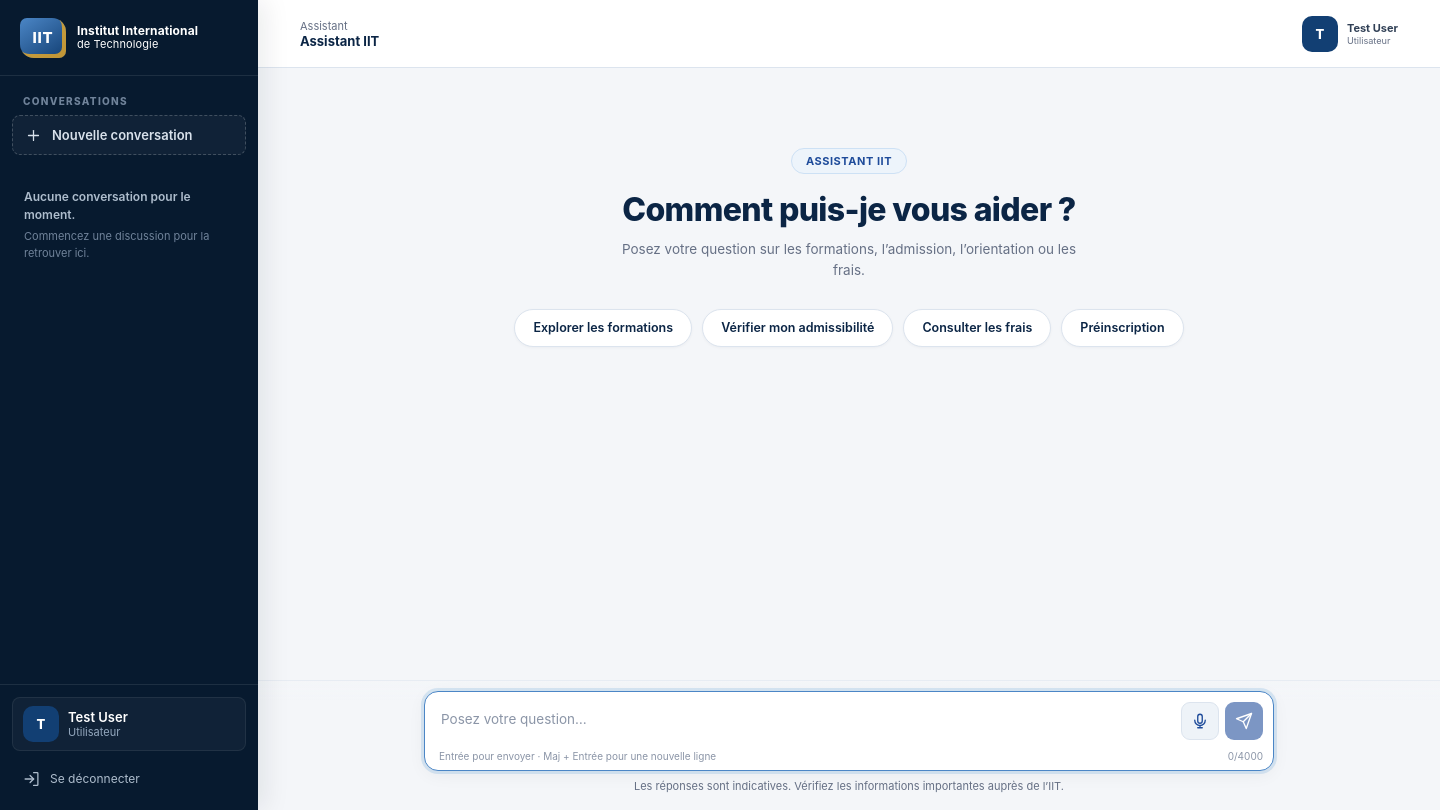
Test: ChatPage › shows a safe microphone permission error
The image size is (1440, 810).
What coordinates should you click on to do the following:
click the button named "Démarrer l’enregistrement vocal"
I would click on:
 (1200, 721)
Its box is [1181, 702, 1219, 740].
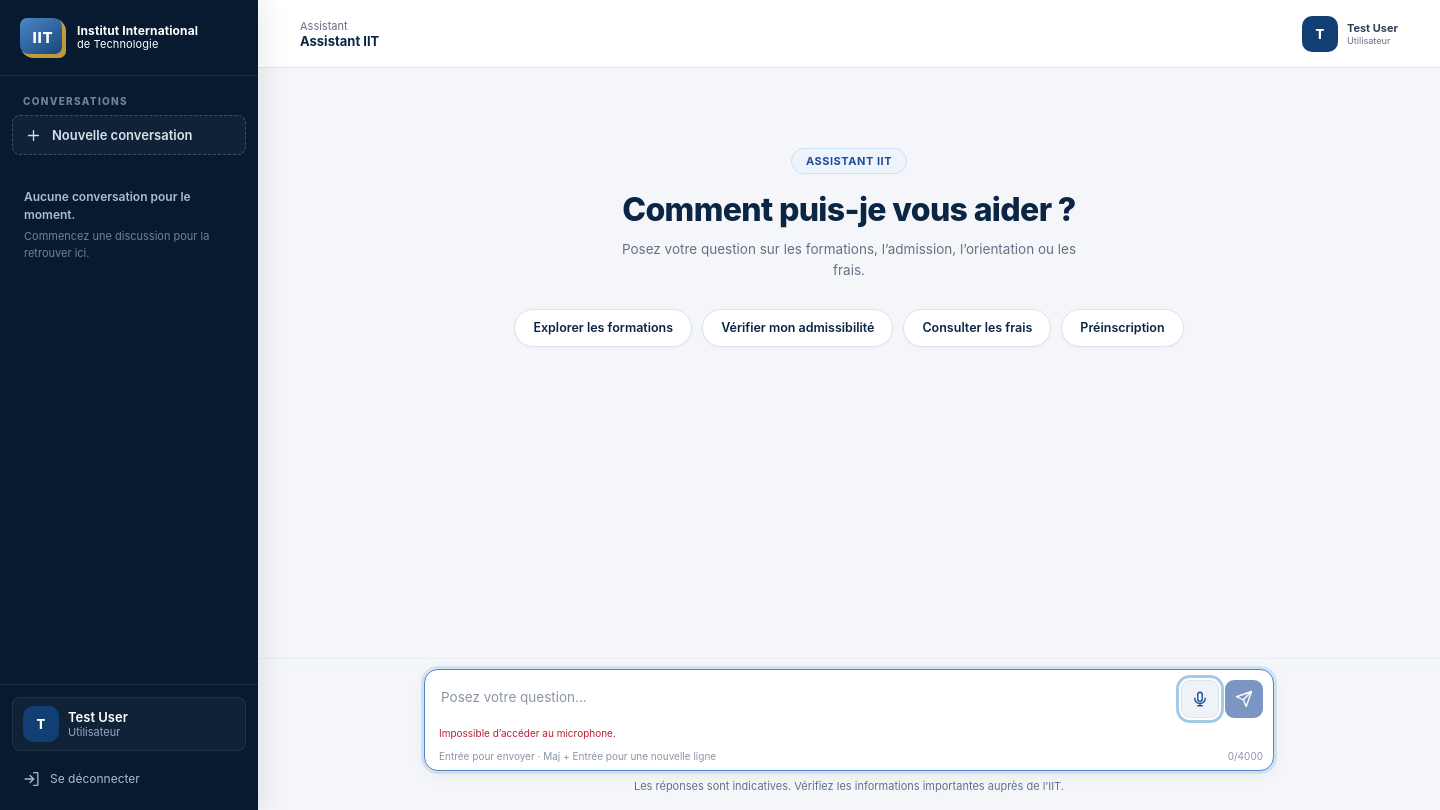
Expected: the message reads "Impossible d’accéder au microphone.", [439, 727, 616, 739]
